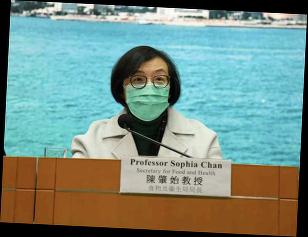with_mask: (122, 66, 171, 122)
